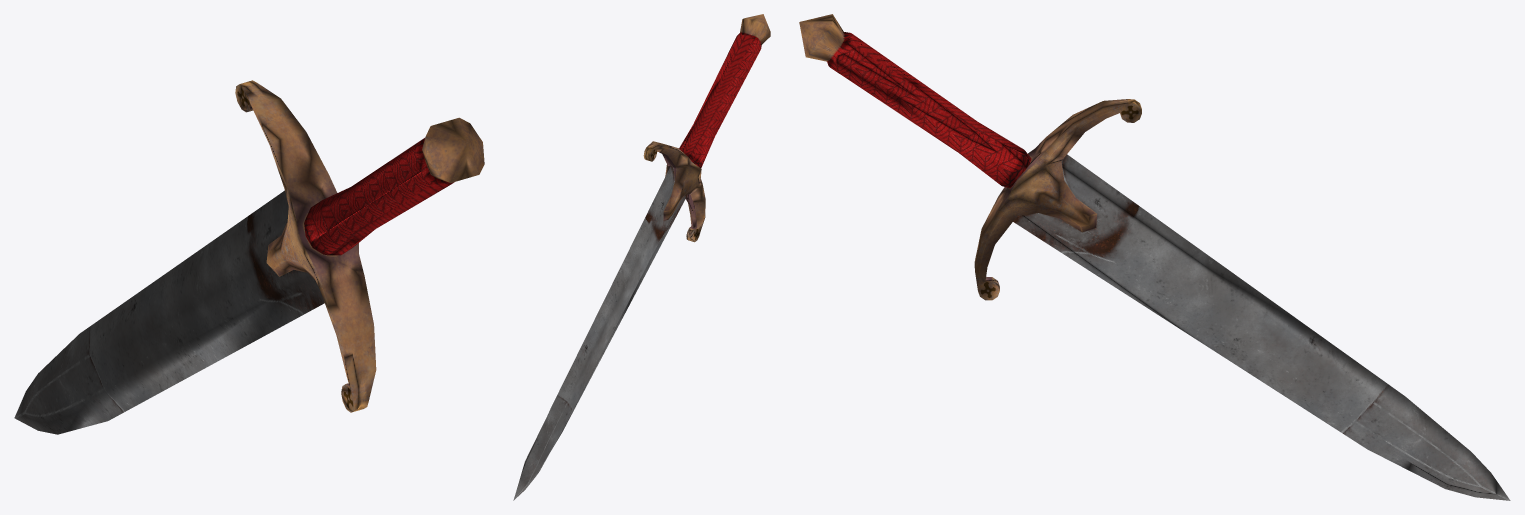
The model's file is shakoor_sword.fbx.
3 views of the same model, side by side, from view 1: azimuth 30°, elevation 25°; view 2: azimuth 150°, elevation 25°; view 3: azimuth 270°, elevation 25° (orthographic). The views are drawn at different scales.
Parts seen in each view (by area): view 1: sword; view 2: sword; view 3: sword.
Boxes of the visible parts, box(x1,y1,x2,y2) form: sword: box(14, 80, 484, 434); sword: box(513, 14, 770, 500); sword: box(799, 14, 1510, 500).
Bounding box in the file's own units: 3.06 × 28.99 × 39.43.
